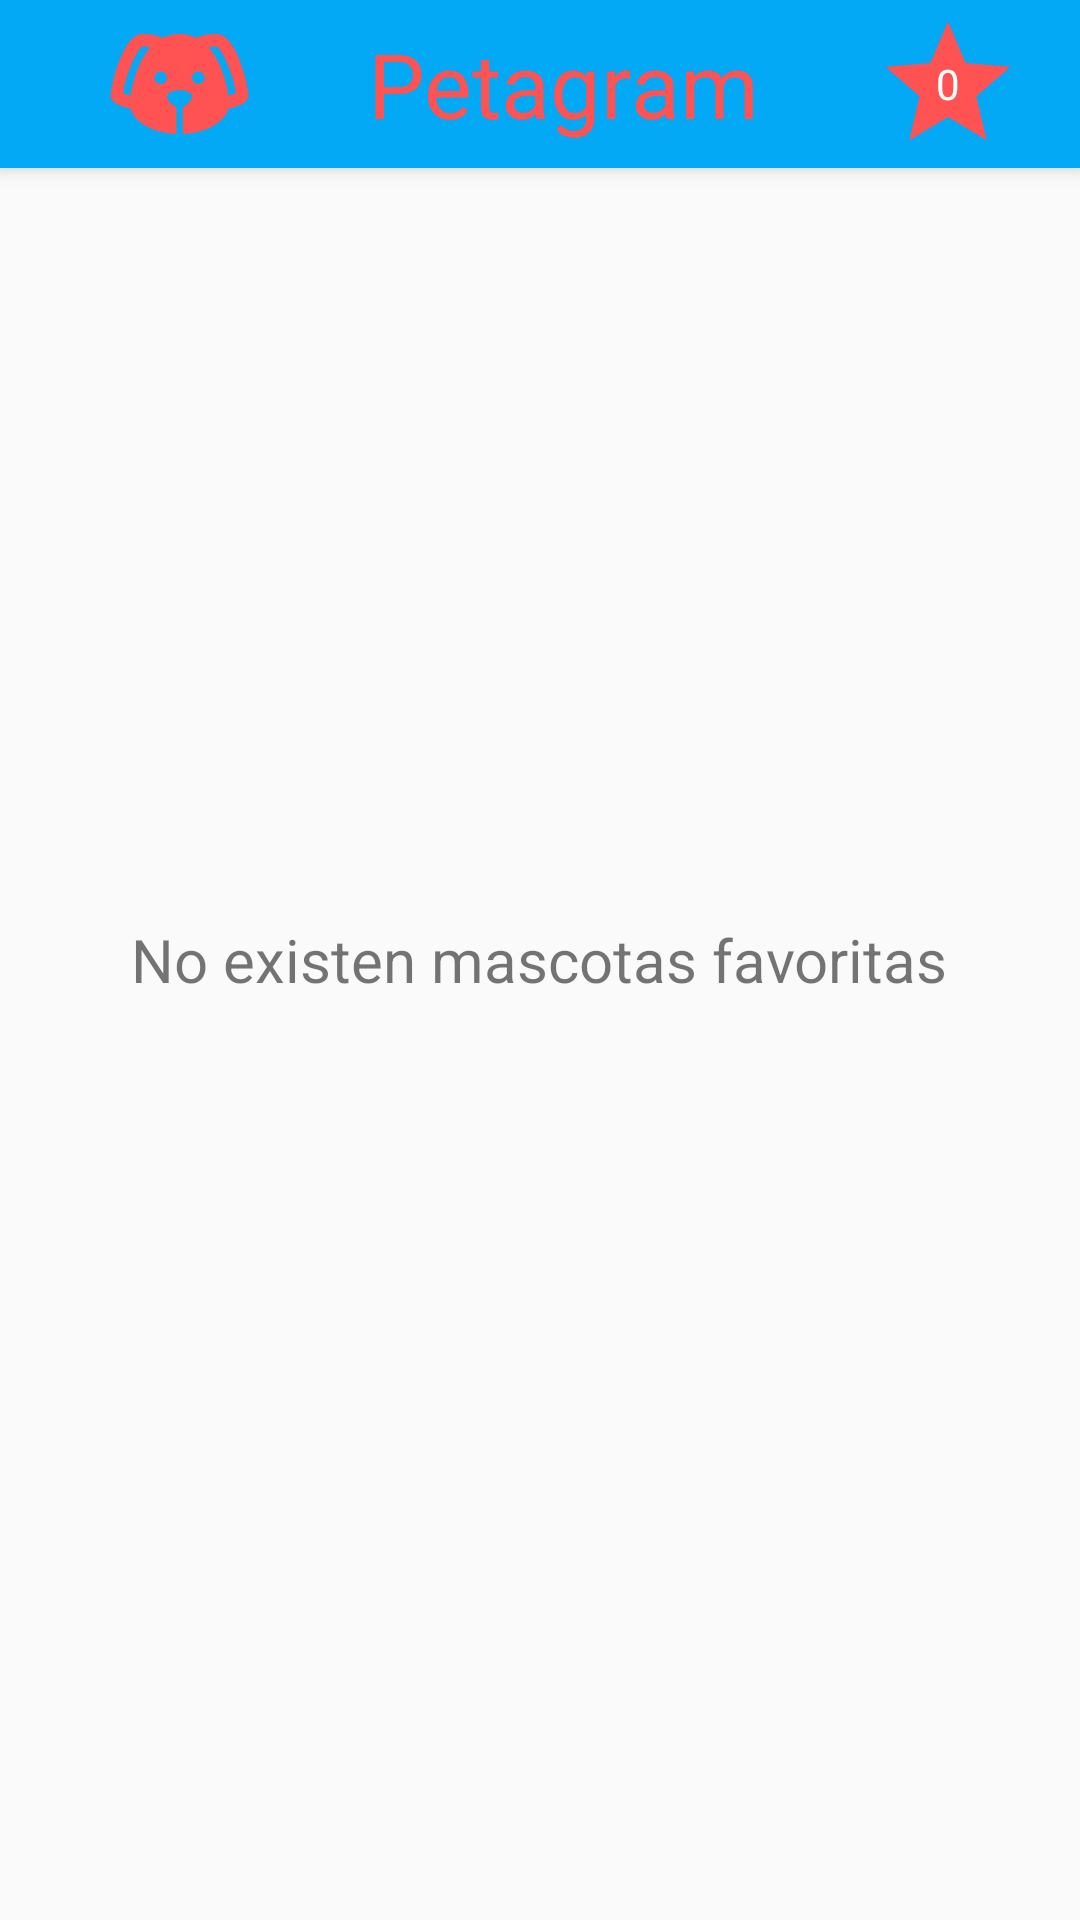

Screen size 1080*1920. Icon name, then its center in pixels as point (x, y):
dog: point (179, 84)
star: point (948, 81)
